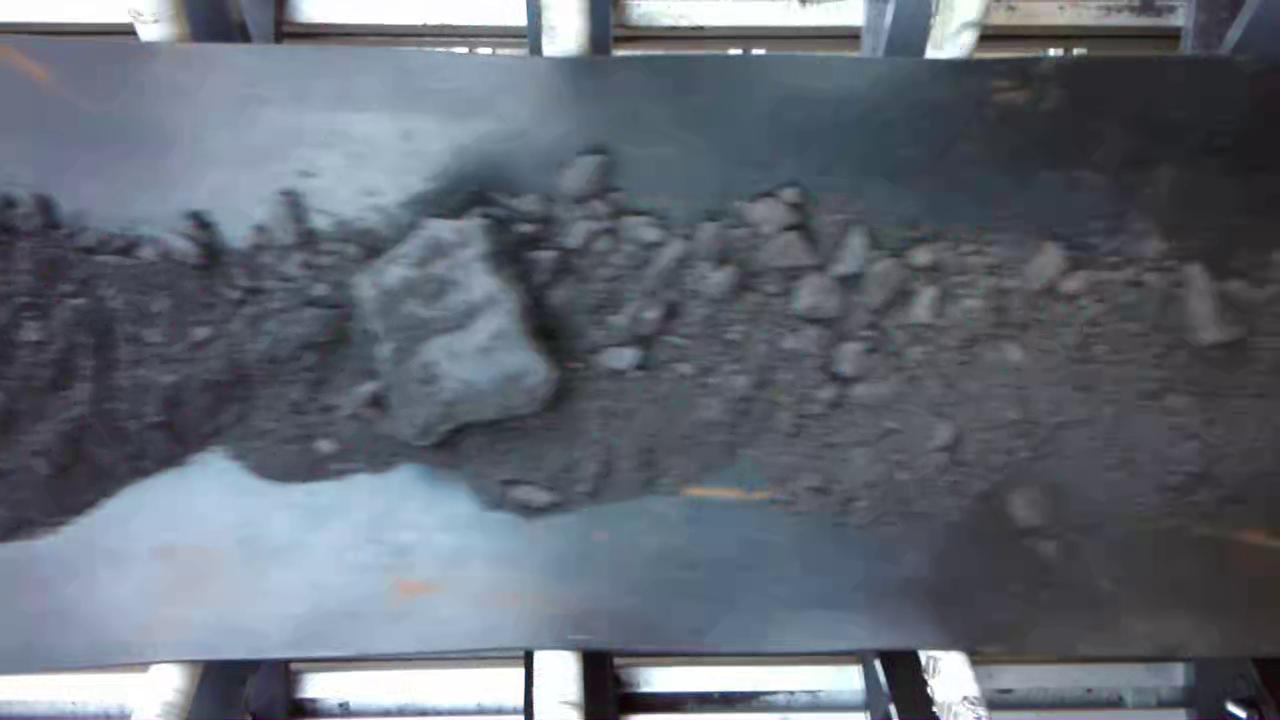conveyor: (6, 70, 1279, 641)
